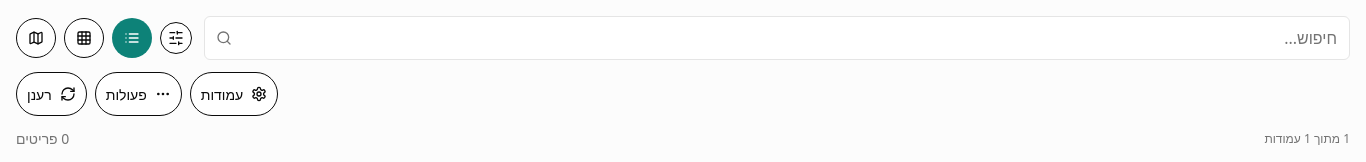
TableToolbar quick filters › collapses quick filters behind a toggle on mobile
The image size is (1366, 162).
Click the button named "מסננים" at (176, 38), box top-left (160, 22), bottom-right (192, 54)
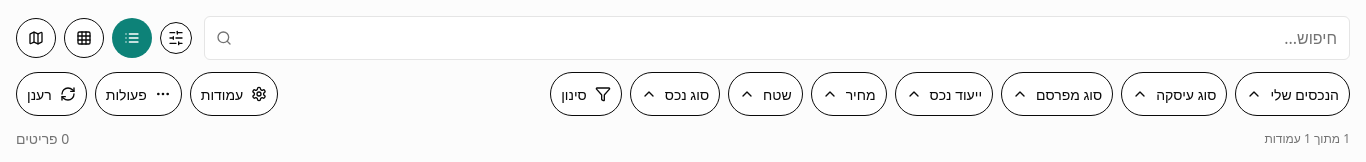
Now the element with test id "quick-filters-container" is shown, box top-left (550, 72), bottom-right (1350, 116)
